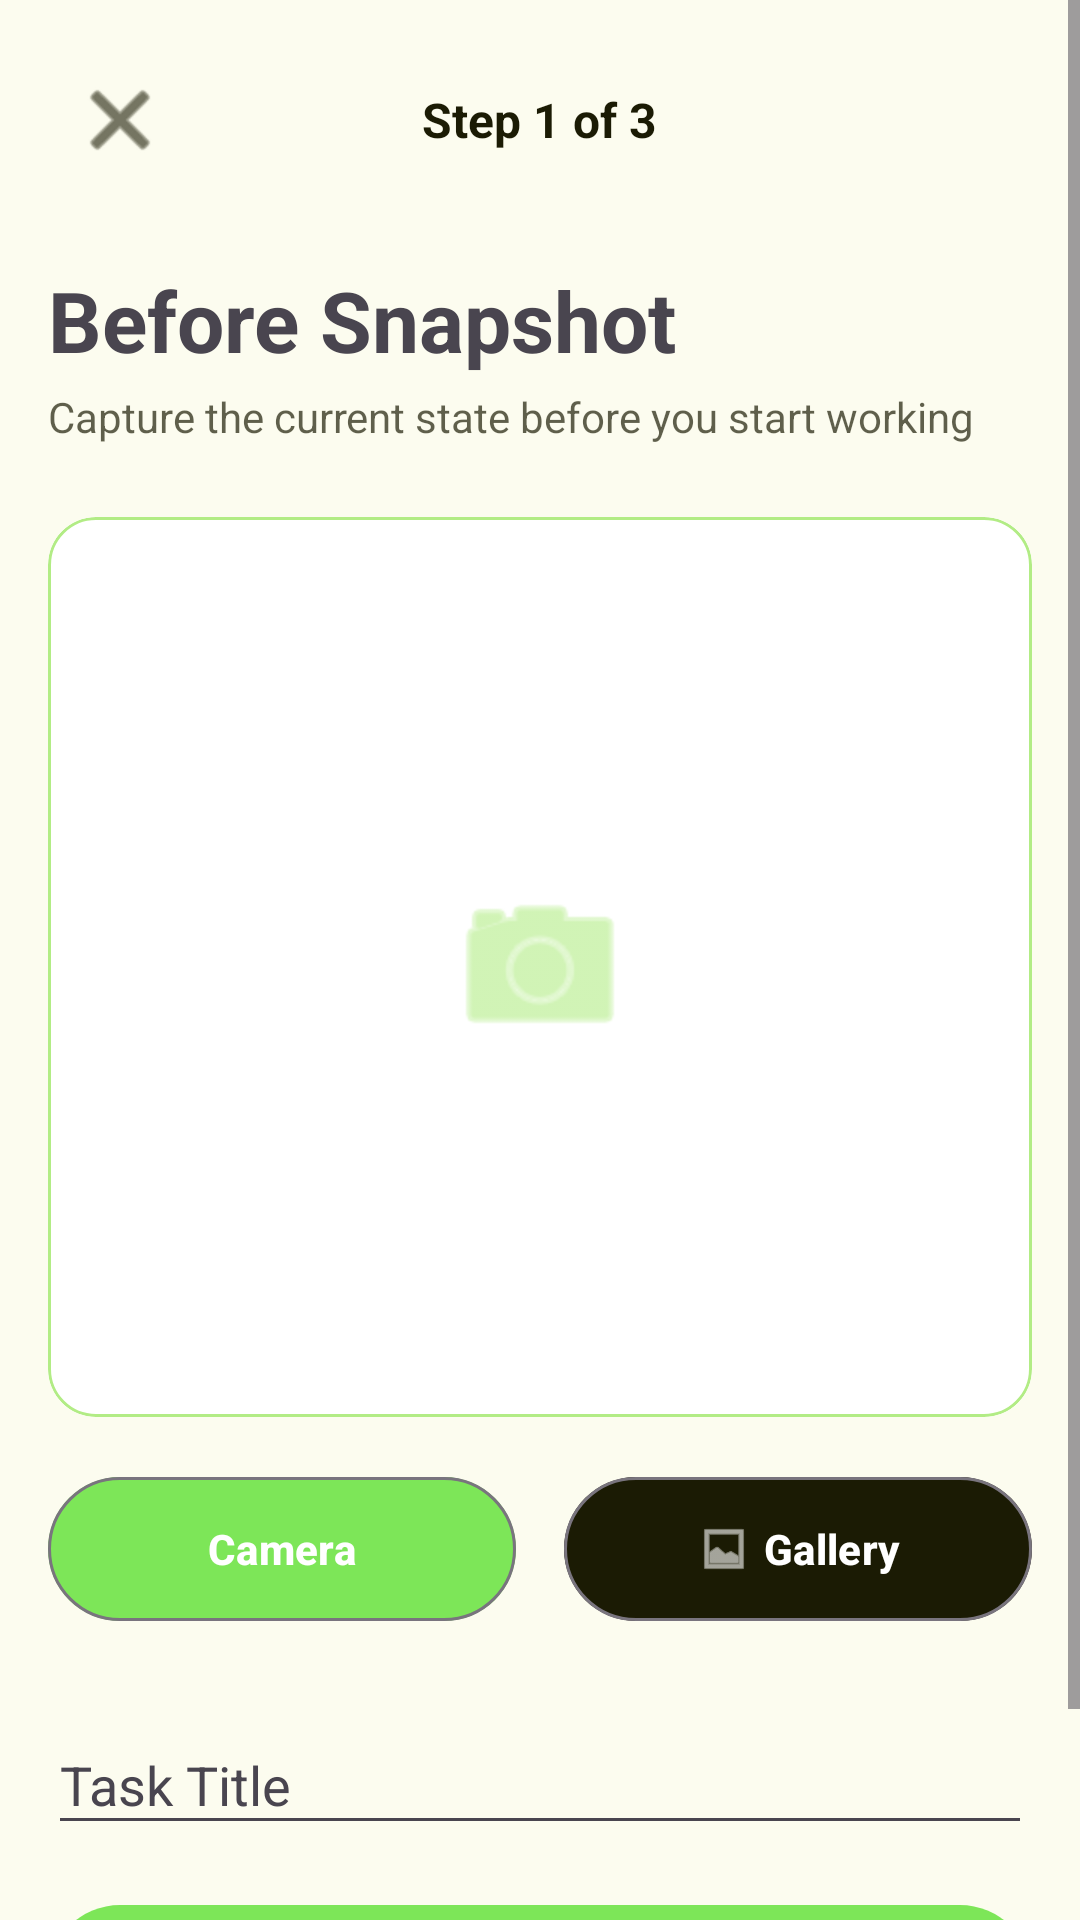

Locate icon controls on the screen. Image size 1080×1920, boxes as (x1, y1, x2, y2).
camera: (466, 906, 614, 1022)
Cancel Task: (90, 90, 150, 150)
